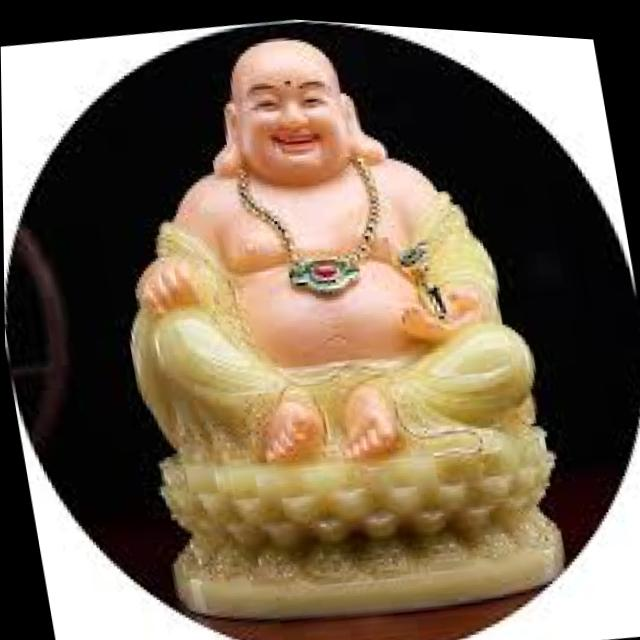Smiling Buddha: (101, 5, 533, 476)
